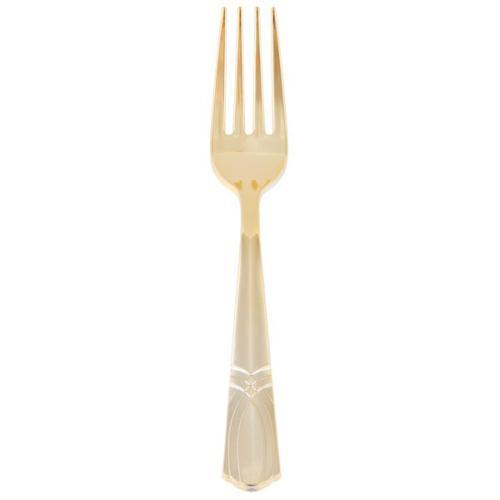Fork: (210, 6, 288, 492)
